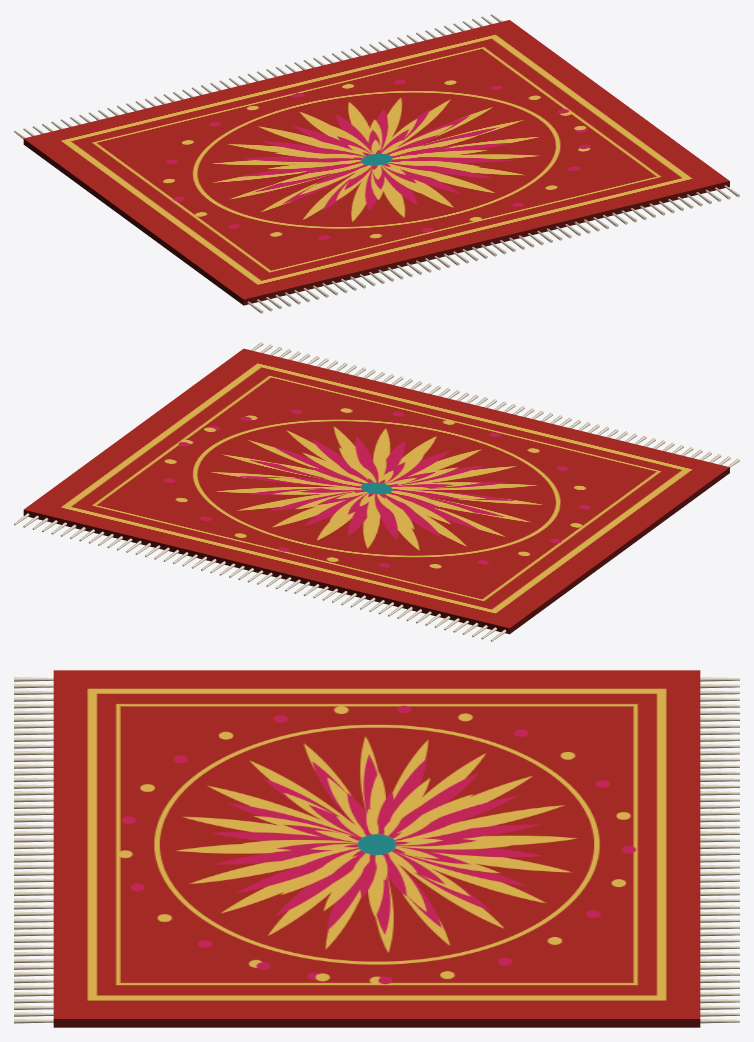
The model's file is carpet_indian.glb.
3 views of the same model, one above another, from view 1: azimuth 30°, elevation 25°; view 2: azimuth 150°, elevation 25°; view 3: azimuth 270°, elevation 25° (orthographic). The views are drawn at different scales.
Visible parts, largest first — view 1: carpet; view 2: carpet; view 3: carpet.
Boxes of the visible parts, x1,y1,x2,y2 form: carpet: (23, 20, 729, 305); carpet: (23, 348, 729, 634); carpet: (53, 670, 700, 1027).
Size of the model in its own units: 1.02 by 0.012 by 0.898.
3 materials, 1 textured.
